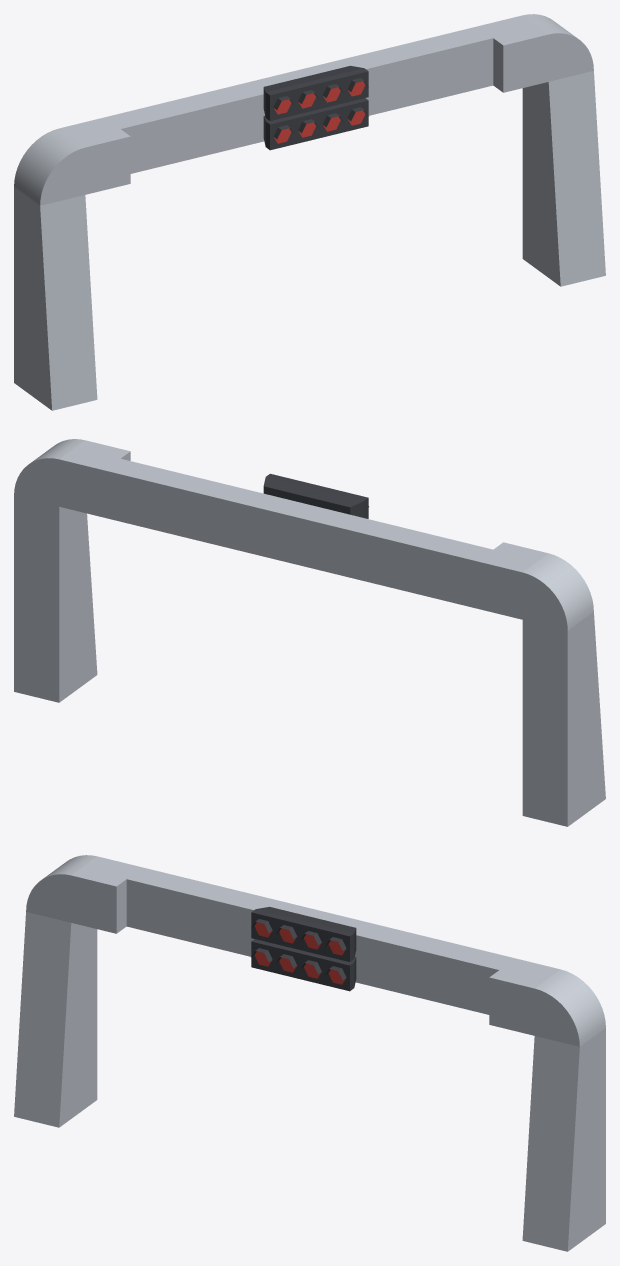
The model's file is start_gantry.glb.
3 views of the same model, one above another, from view 1: azimuth 30°, elevation 25°; view 2: azimuth 150°, elevation 25°; view 3: azimuth 330°, elevation 25° (orthographic).
Parts seen in each view (by area): view 1: start_gantry; view 2: start_gantry; view 3: start_gantry.
Boxes of the visible parts, bbox=[...] form: start_gantry: bbox=[14, 14, 605, 410]; start_gantry: bbox=[14, 439, 605, 826]; start_gantry: bbox=[14, 855, 605, 1251].
Size of the model in its own units: 15.4 by 6.72 by 1.84.
